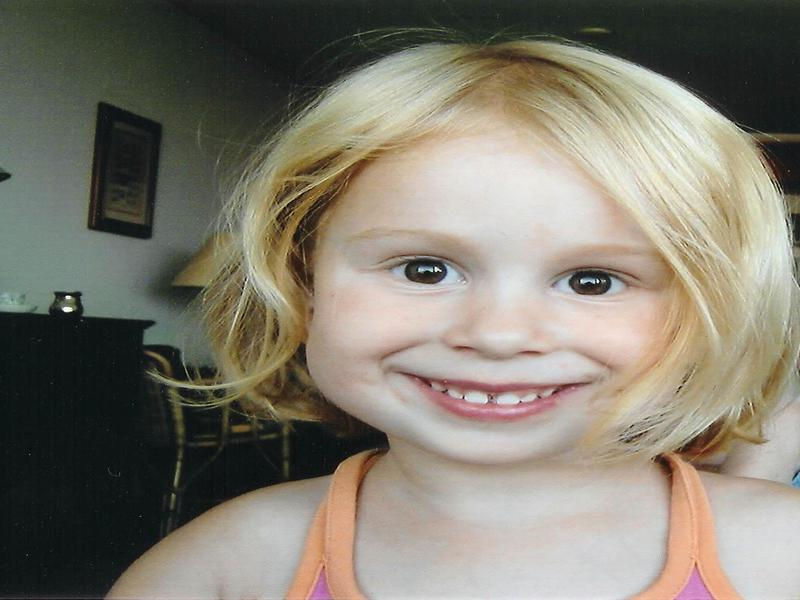person: (109, 13, 800, 600)
